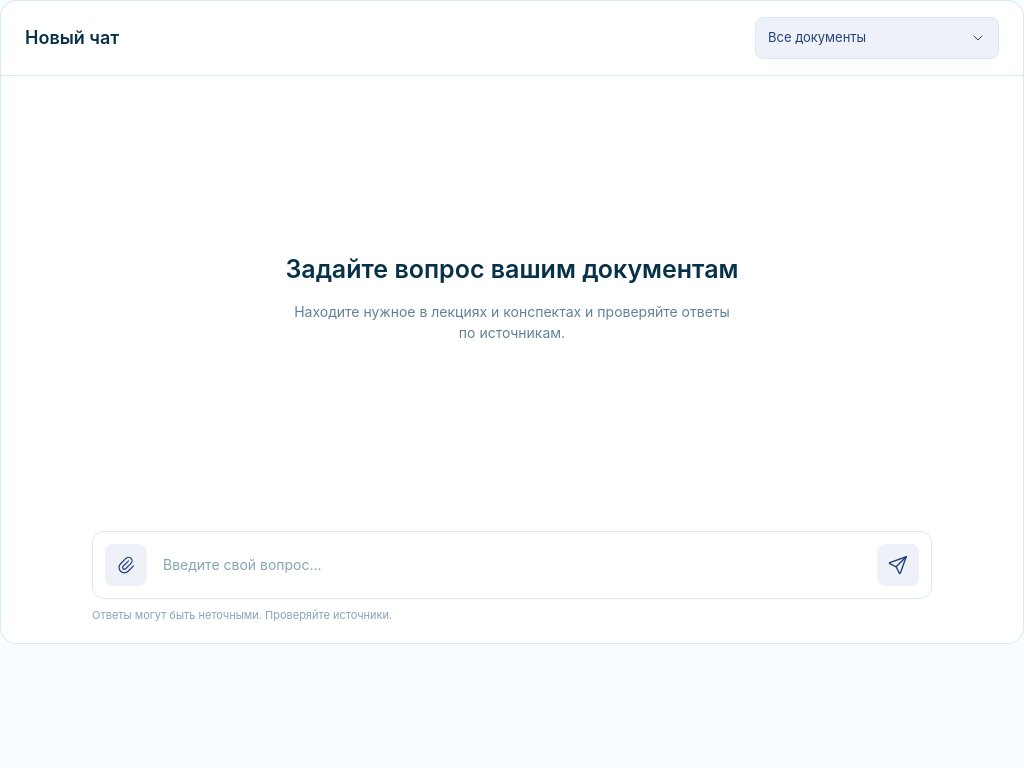
Test: Chat › показывает сообщение при недостатке информации
This screenshot has width=1024, height=768.
In the text box with placeholder "Введите свой вопрос...": (512, 564) [159,548,865,580], type "Тестовый вопрос"
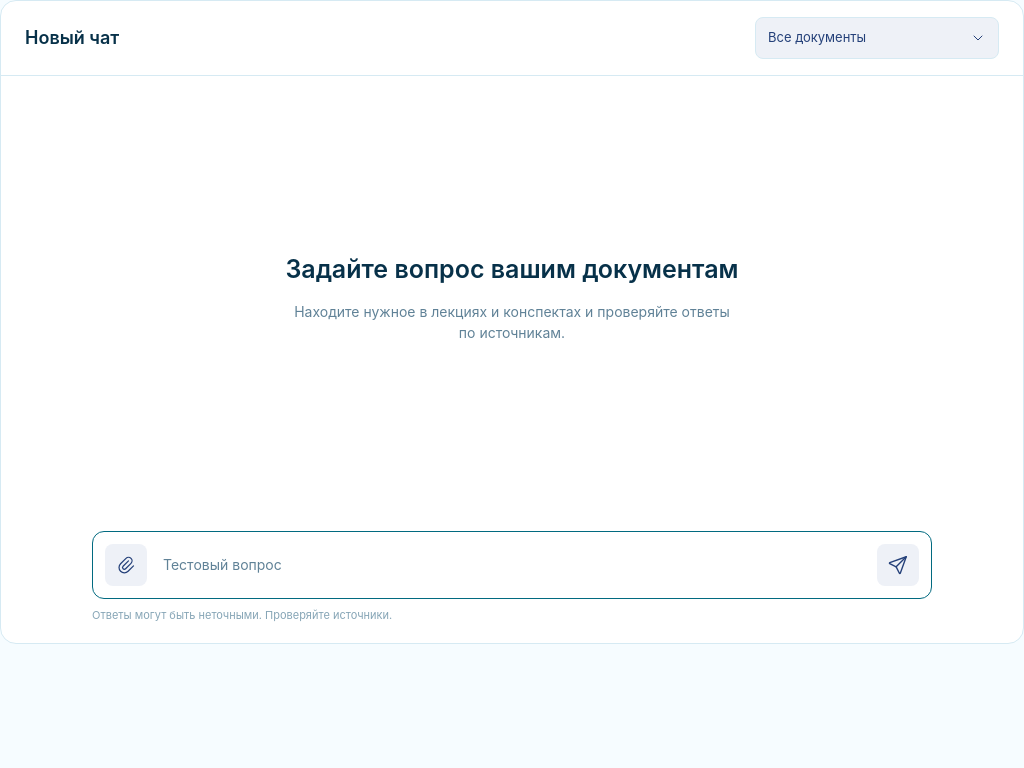
Click the button named "Отправить": (898, 564) [877,544,919,586]
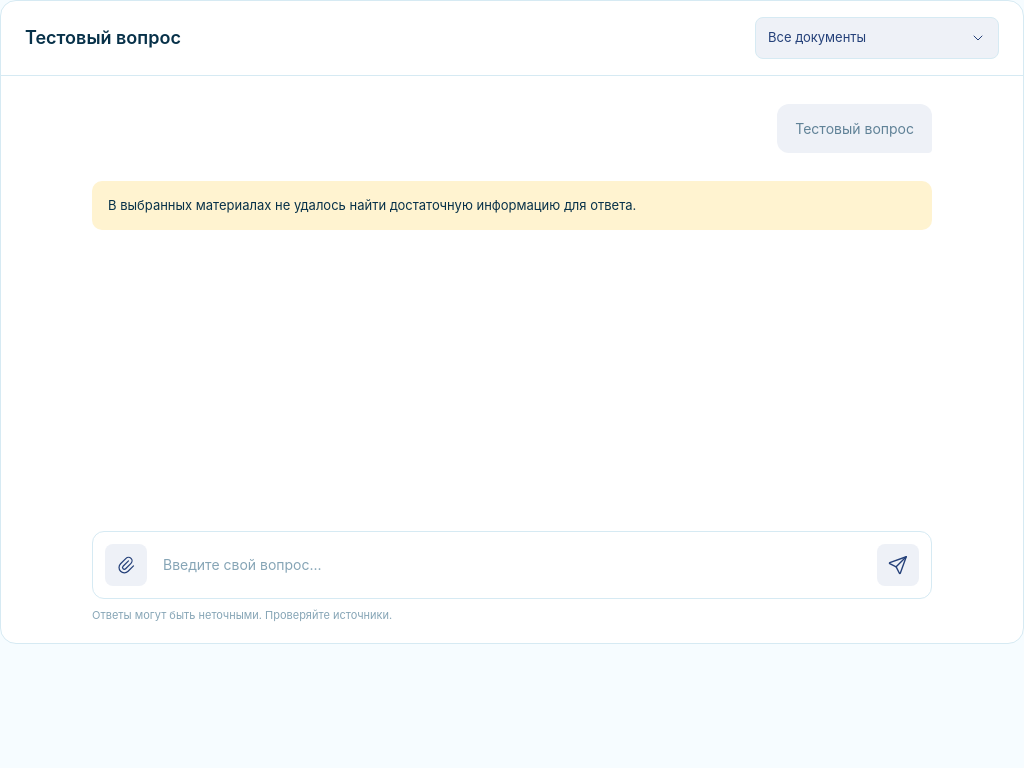
Check: the text "В выбранных материалах не удалось найти достаточную информацию для ответа." is shown, box [92,181,932,230]
